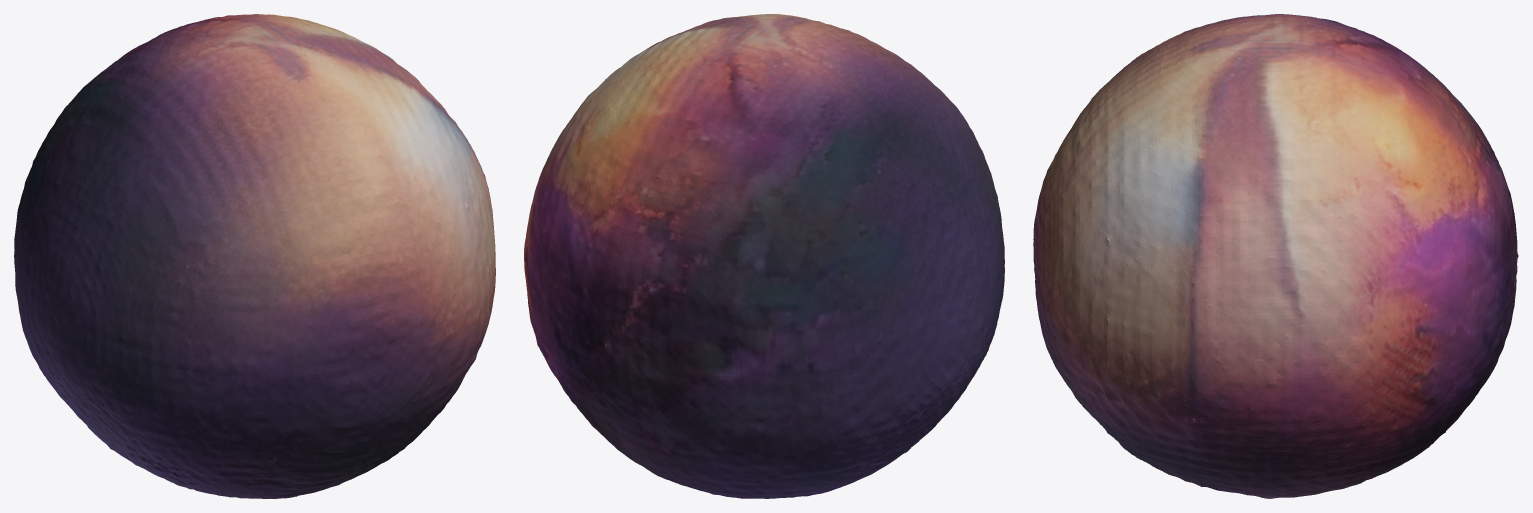
The model's file is f4oTabZImWeI.jpg.glb.
3 views of the same model, side by side, from view 1: azimuth 30°, elevation 25°; view 2: azimuth 150°, elevation 25°; view 3: azimuth 270°, elevation 25° (orthographic).
Visible parts, largest first — view 1: world; view 2: world; view 3: world.
Boxes of the visible parts, bbox=[...] form: world: bbox=[14, 14, 495, 498]; world: bbox=[524, 14, 1004, 498]; world: bbox=[1033, 14, 1518, 498].
Size of the model in its own units: 1.94 by 1.97 by 1.96.
